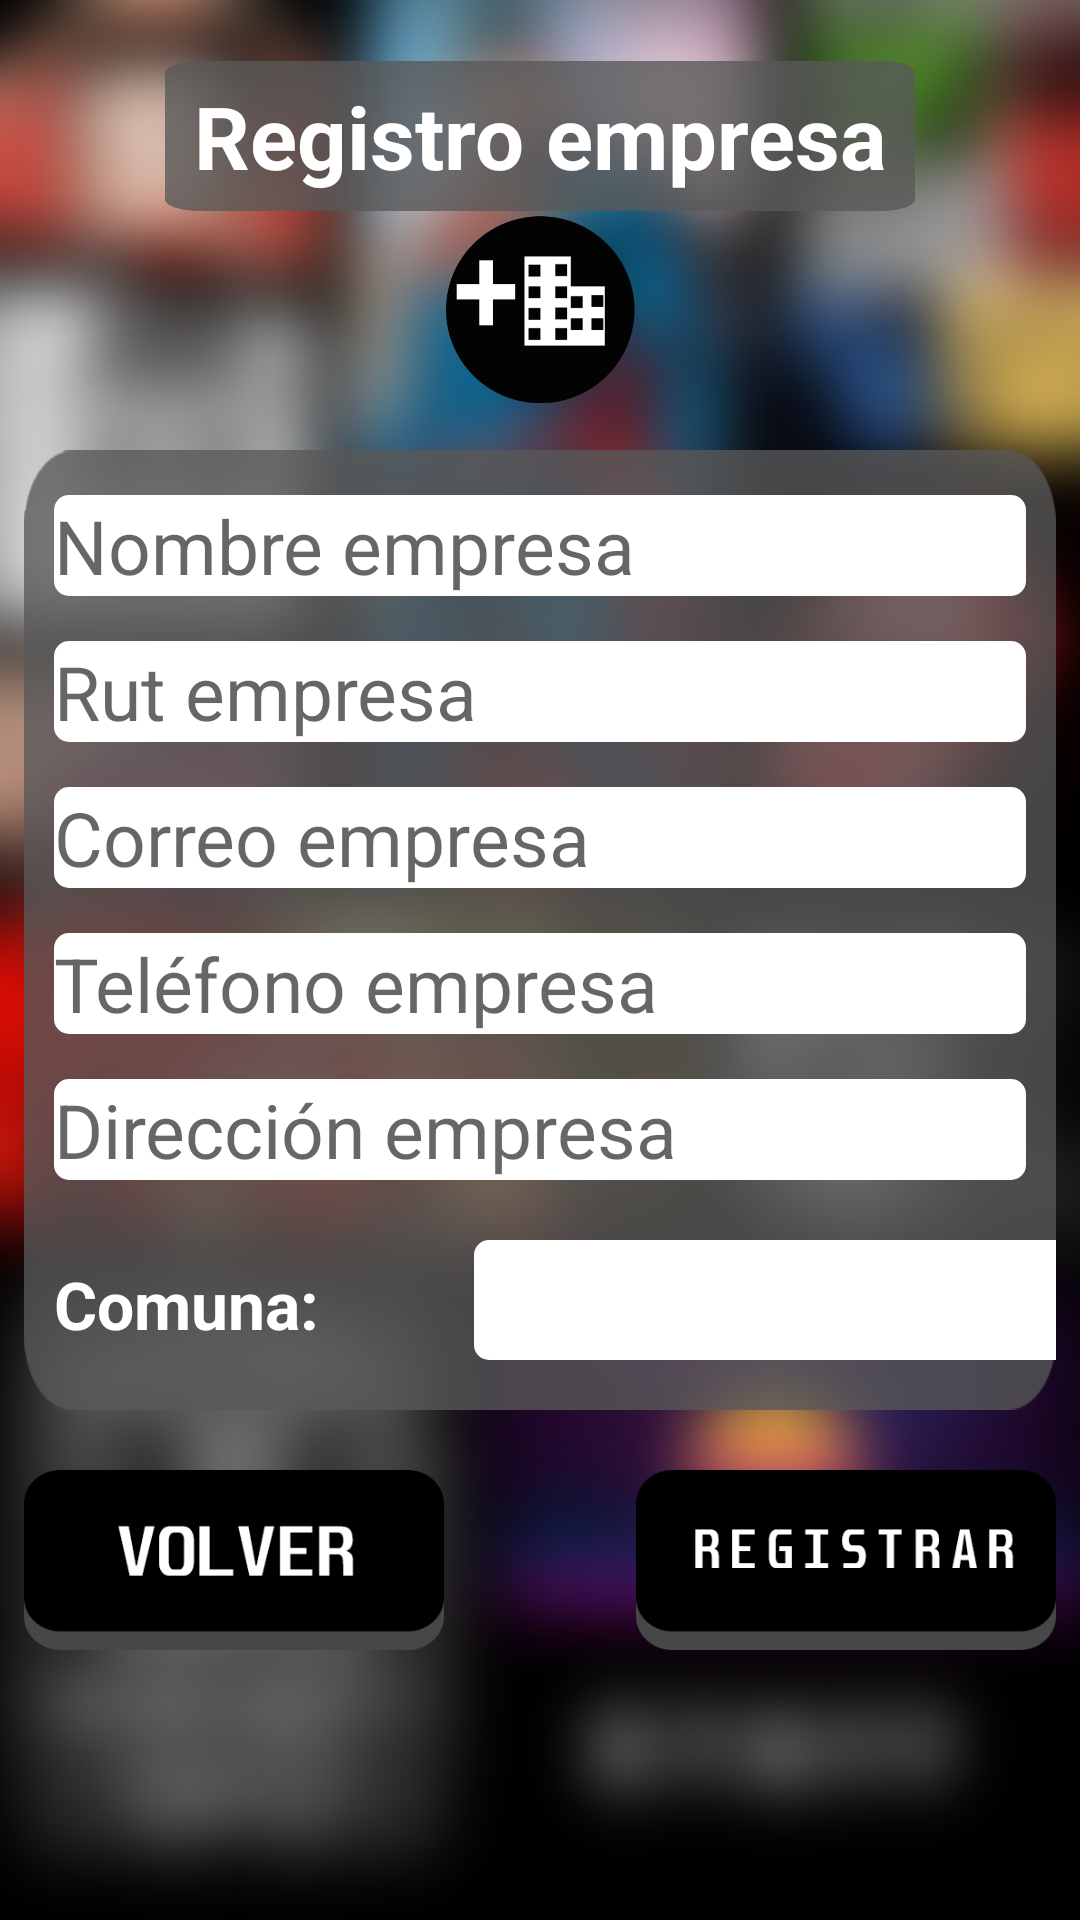

Where to tap for icons on this 1080w x 1920h app screen, as (x=x, y=y):
masempresa: (x=540, y=315)
